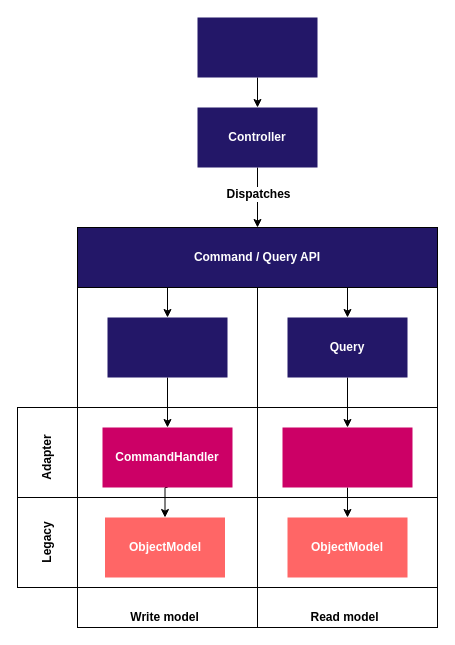
The diagram is 455 pixels wide and 645 high, and some of its shapes have lost their labels. The shapes that lost their labels are listed below. From the top down, each one's box as (x1, y1, x2, y2) in pixels, then its label:
(197, 17, 317, 77): View
(107, 317, 227, 377): Command
(282, 427, 412, 487): QueryHandler
